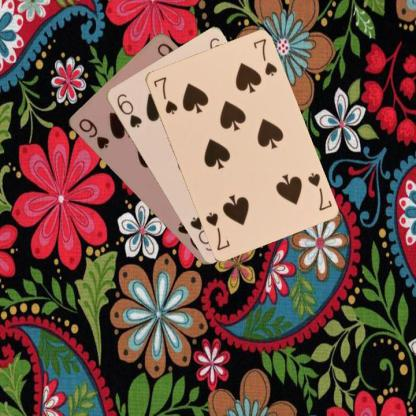6s: (114, 91, 144, 129)
7s: (304, 169, 333, 212), (150, 74, 179, 116)
9s: (76, 116, 112, 152)
